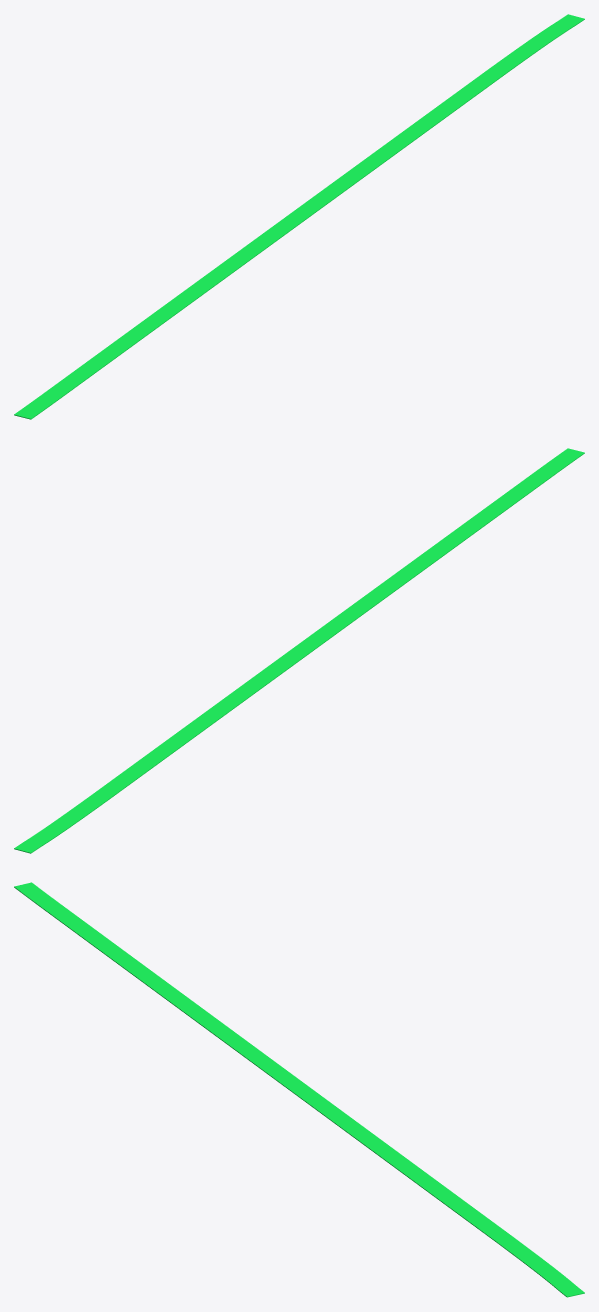
File: LusailDrs.glb
3 views of the same model, one above another, from view 1: azimuth 30°, elevation 25°; view 2: azimuth 210°, elevation 25°; view 3: azimuth 270°, elevation 25° (orthographic).
Parts seen in each view (by area): view 1: DrsStrip_1; view 2: DrsStrip_1; view 3: DrsStrip_1.
Part boxes in pixels (x1,y1,x2,y2): DrsStrip_1: (14,14,584,419); DrsStrip_1: (14,448,584,853); DrsStrip_1: (14,882,584,1297).
Size of the model in its own units: 6.75 by 0.006 by 3.93.
